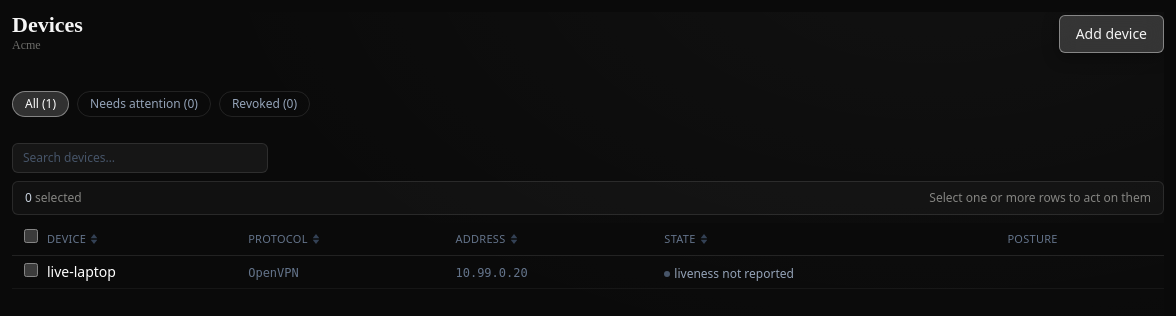
Devices — a pending device can be acted on HERE › ⚠ …AND THE CONVERSE, so 'always enabled' cannot pass: an ACTIVE device revokes and cannot be approved
Expected: the table named "Devices" is shown, [12,223,1164,289]
Click the checkbox named "Select live-laptop" at (31, 270), box [24,263,38,277]
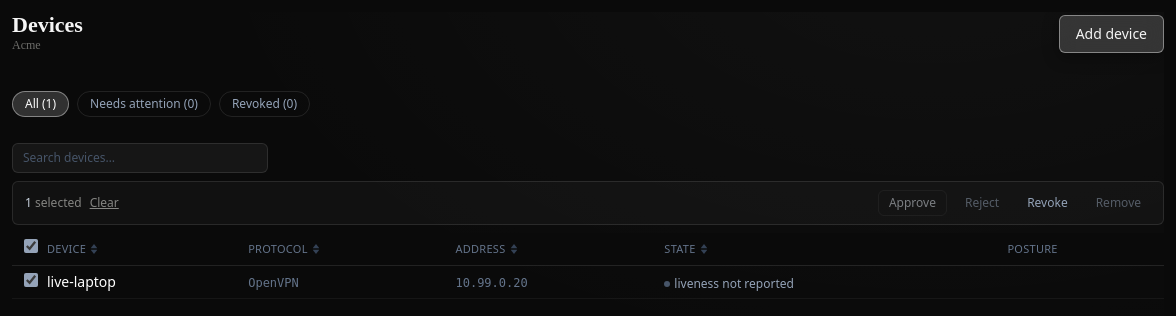
Now the button "Revoke" is enabled, box [1017,191,1078,215]
Now the button "Approve" is disabled, box [878,190,947,216]
